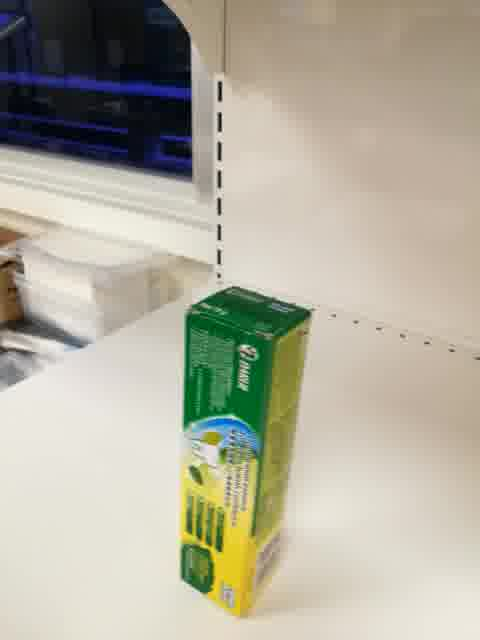toothpaste: (179, 285, 312, 620)
